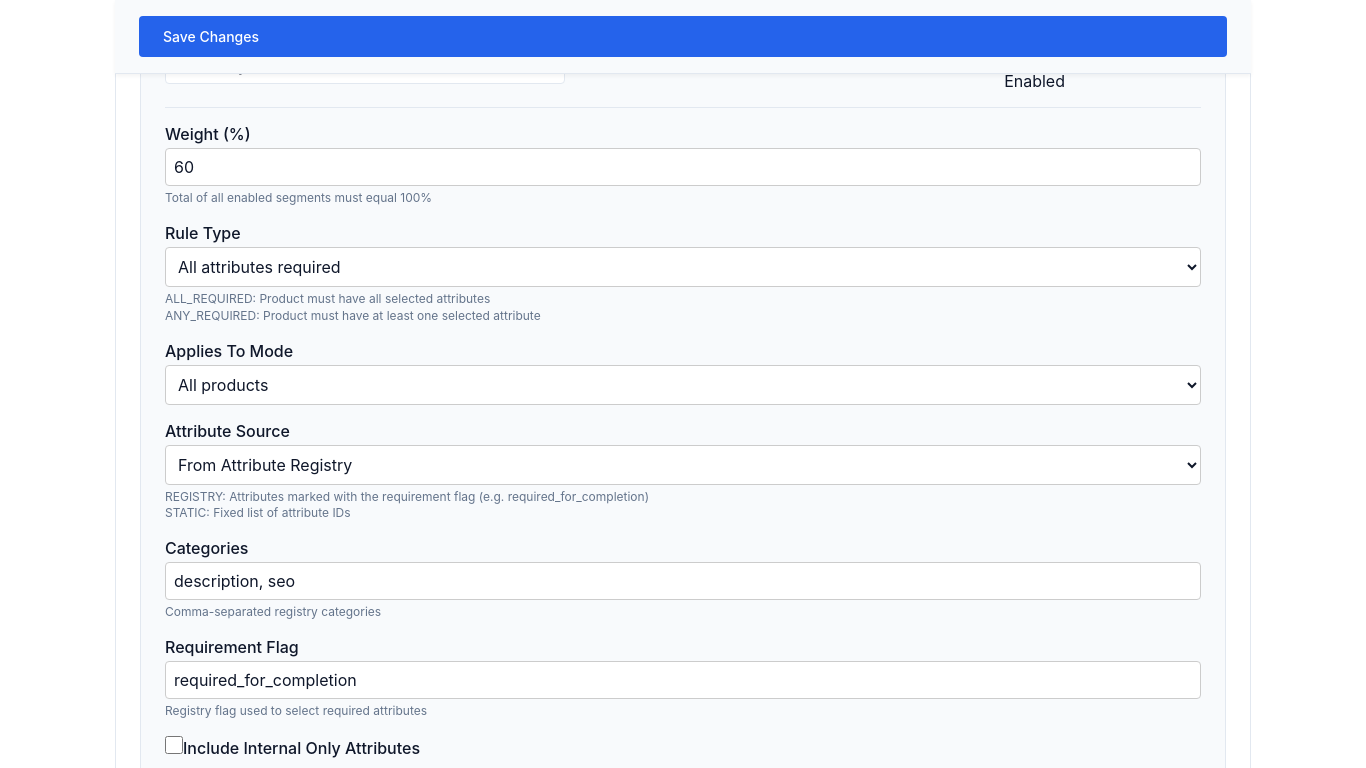
Test case: ExportSettingsPage — Completion Rules Editor › requires sites when appliesTo is conditional
The width and height of the screenshot is (1366, 768).
(page scrolled)
Select "Only selected sites" in the dropdown labelled "Applies To Mode" at (683, 385), box left=165, top=365, right=1201, bottom=405
(page scrolled)
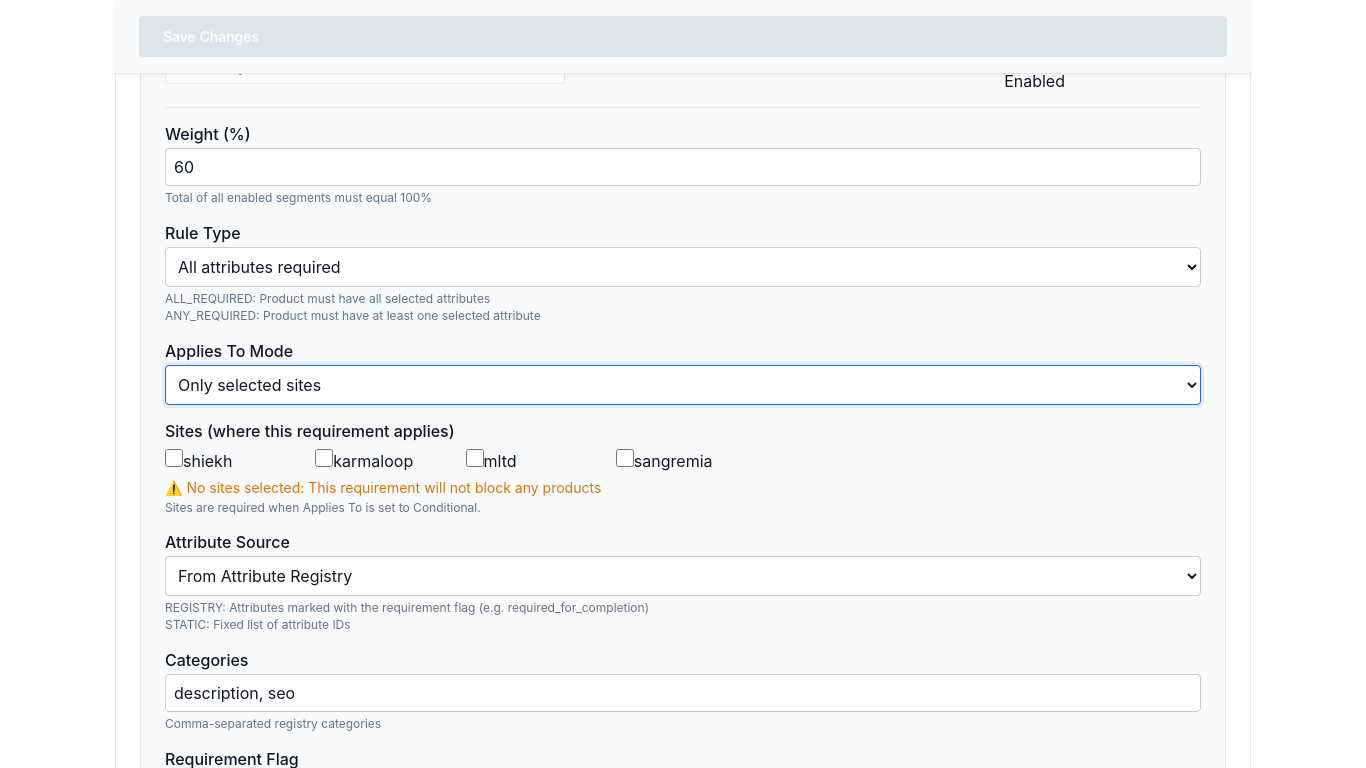
Check: the button "Save Changes" is disabled, box left=139, top=16, right=1227, bottom=57
